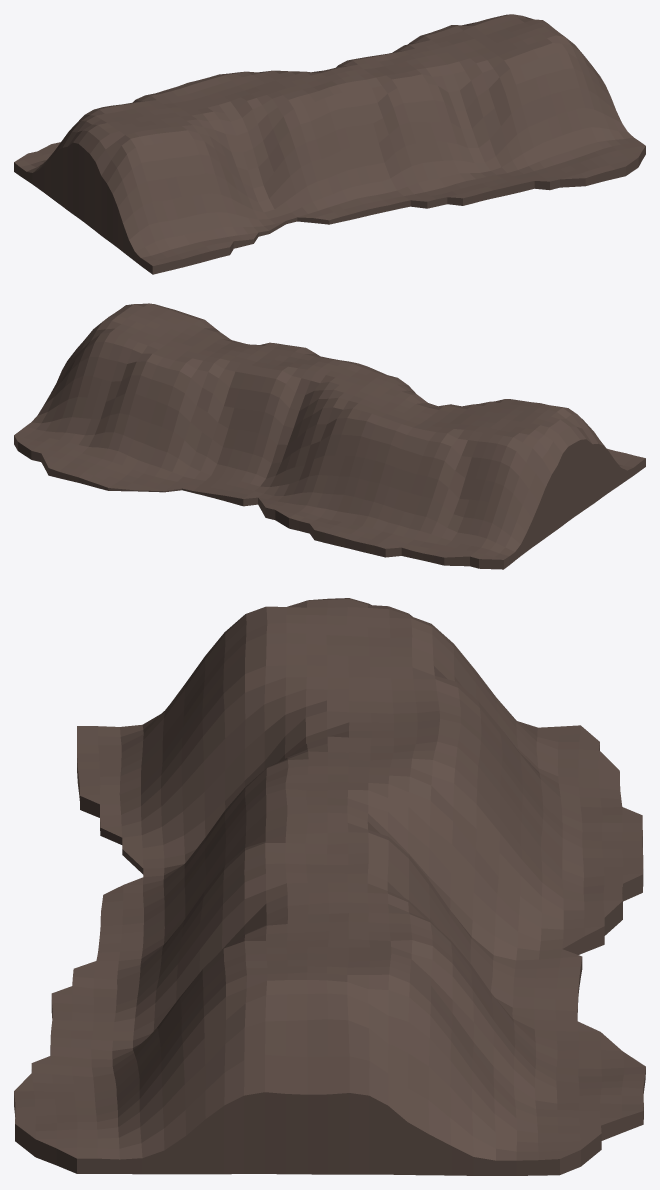
3 renders of one model, top to bottom at view 1: azimuth 30°, elevation 25°; view 2: azimuth 150°, elevation 25°; view 3: azimuth 270°, elevation 25°, orthographic. The views are drawn at different scales.
Parts seen in each view (by area): view 1: J-5; view 2: J-5; view 3: J-5.
Part boxes in pixels (left/top/right/bottom): J-5: left=14, top=14, right=645, bottom=274; J-5: left=14, top=303, right=645, bottom=569; J-5: left=14, top=598, right=645, bottom=1175.
Size of the model in its own units: 7068 by 1227 by 4345.
